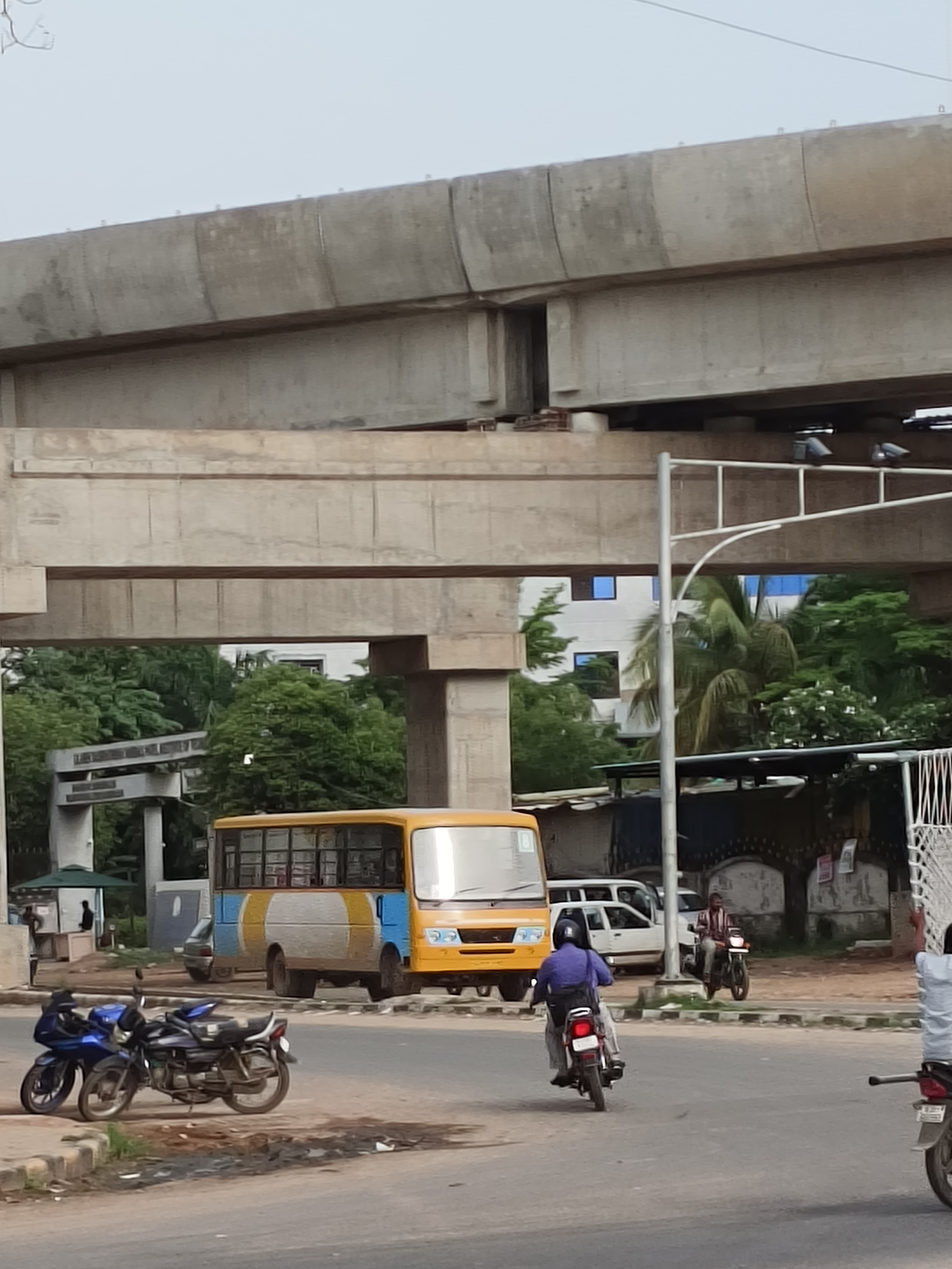BikeWithRider: (529, 917, 627, 1113), (686, 889, 751, 1002)
Helmet: (551, 918, 584, 950)
NoHelmet: (706, 890, 724, 912)
